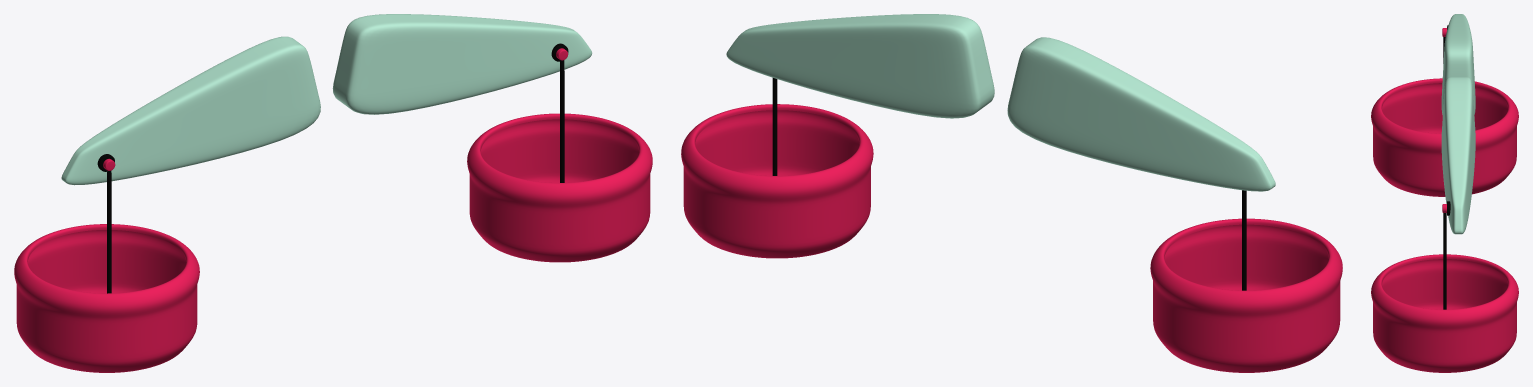
Rendered from Wings.gltf.
3 renders of one model, left to right at view 1: azimuth 30°, elevation 25°; view 2: azimuth 150°, elevation 25°; view 3: azimuth 270°, elevation 25°, orthographic. The views are drawn at different scales.
Parts seen in each view (by area): view 1: basket-right, basket-left, wings-left, wings-right; view 2: basket-right, basket-left, wings-left, wings-right; view 3: basket-right, basket-left, wings-right, wings-left.
Boxes of the visible parts, left/top/right/bottom form: basket-right: left=467, top=48, right=652, bottom=262; basket-left: left=14, top=158, right=199, bottom=372; wings-left: left=61, top=36, right=320, bottom=185; wings-right: left=332, top=14, right=592, bottom=114; basket-right: left=681, top=78, right=873, bottom=258; basket-left: left=1150, top=190, right=1342, bottom=372; wings-left: left=1007, top=37, right=1275, bottom=191; wings-right: left=726, top=14, right=994, bottom=118; basket-right: left=1371, top=204, right=1518, bottom=372; basket-left: left=1371, top=28, right=1518, bottom=196; wings-right: left=1441, top=77, right=1475, bottom=234; wings-left: left=1441, top=14, right=1475, bottom=114.
Bounding box in the file's own units: 2.52 × 0.9759 × 0.6607.
